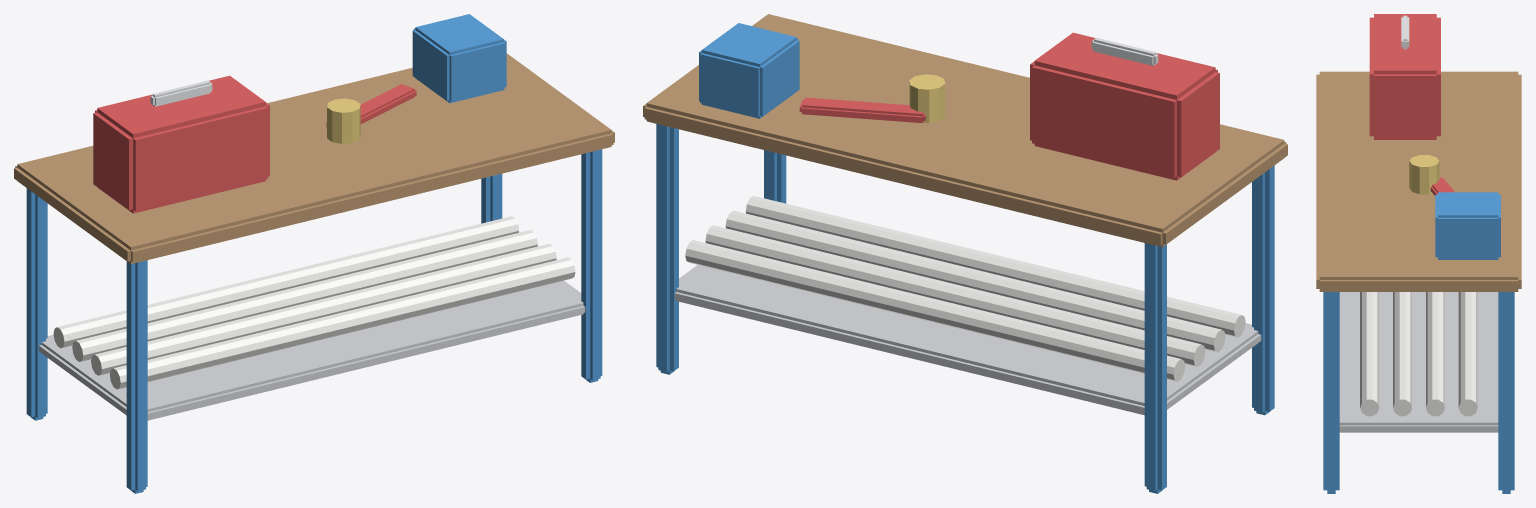
The model's file is Interior_PlumberBench.fbx.
The picture shows the model from 3 angles, left to right: view 1: azimuth 30°, elevation 25°; view 2: azimuth 150°, elevation 25°; view 3: azimuth 270°, elevation 25°; orthographic projection. The views are drawn at different scales.
Visible parts, largest first — view 1: Interior_PlumberBench; view 2: Interior_PlumberBench; view 3: Interior_PlumberBench.
Part boxes in pixels (x1=…): Interior_PlumberBench: x1=14, y1=14, x2=614, y2=493; Interior_PlumberBench: x1=643, y1=14, x2=1287, y2=493; Interior_PlumberBench: x1=1316, y1=14, x2=1521, y2=493.
Size of the model in its own units: 1.8 by 1.24 by 0.75.
